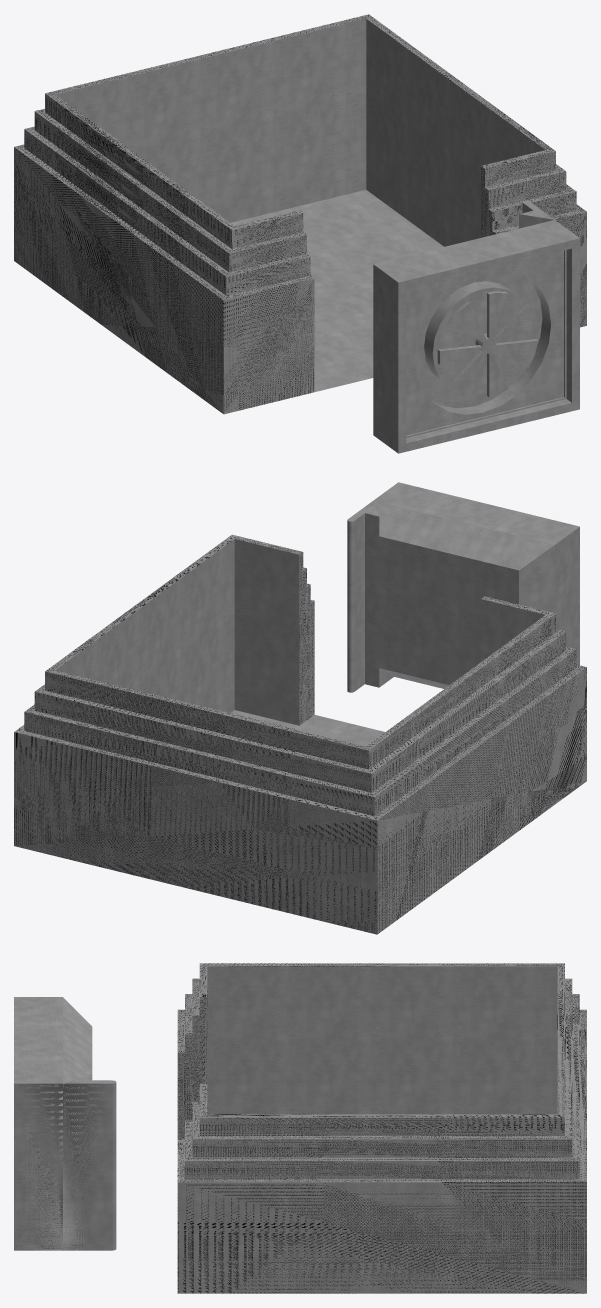
Rendered from saferoom.glb.
3 views of the same model, one above another, from view 1: azimuth 30°, elevation 25°; view 2: azimuth 150°, elevation 25°; view 3: azimuth 270°, elevation 25° (orthographic). The views are drawn at different scales.
Visible parts, largest first — view 1: instance_1, instance_1.002, instance_0.011, instance_0.008, instance_0.006, instance_0.009, instance_0.010, instance_0.007; view 2: instance_1.002, instance_0.011, instance_1; view 3: instance_1.002, instance_1, instance_0.011.
Part boxes in pixels (box(x1,y1,x2,y2)): instance_1: box(55, 18, 544, 391); instance_1.002: box(14, 14, 586, 414); instance_0.011: box(373, 200, 579, 453); instance_0.008: box(406, 250, 564, 436); instance_0.006: box(414, 268, 550, 414); instance_0.009: box(424, 281, 532, 394); instance_0.010: box(437, 291, 538, 398); instance_0.007: box(406, 248, 571, 443); instance_1.002: box(14, 534, 586, 934); instance_0.011: box(347, 482, 579, 692); instance_1: box(55, 539, 545, 745); instance_1.002: box(177, 963, 586, 1293); instance_1: box(207, 966, 557, 1114); instance_0.011: box(14, 997, 116, 1250).
Size of the model in its own units: 10 by 4.5 by 14.
4 materials, 3 textured.
